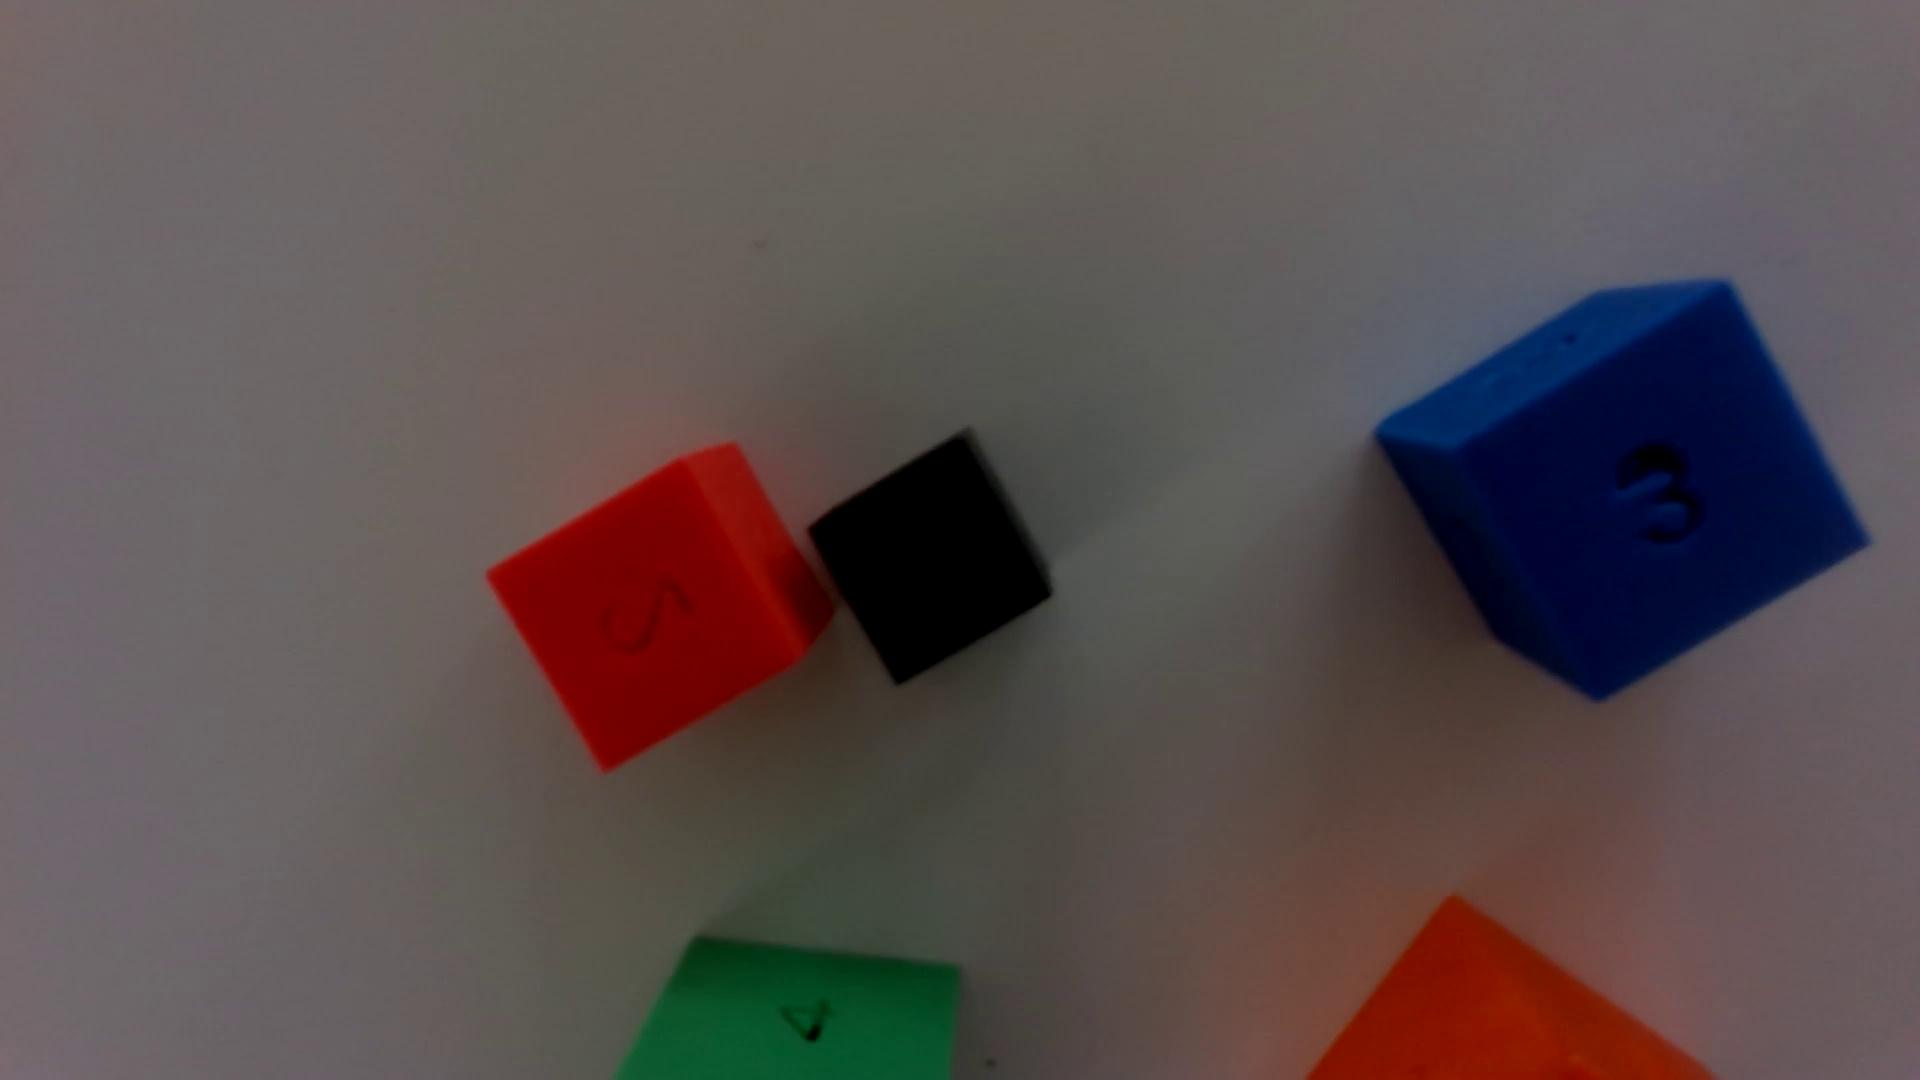black: (808, 433, 1052, 684)
blue: (1375, 280, 1867, 702)
green: (616, 938, 961, 1080)
orange: (1309, 898, 1712, 1080)
red: (489, 444, 833, 771)
